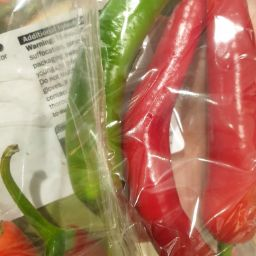Jalapeno pepper: (67, 4, 256, 256), (110, 27, 189, 238), (1, 138, 116, 256)
